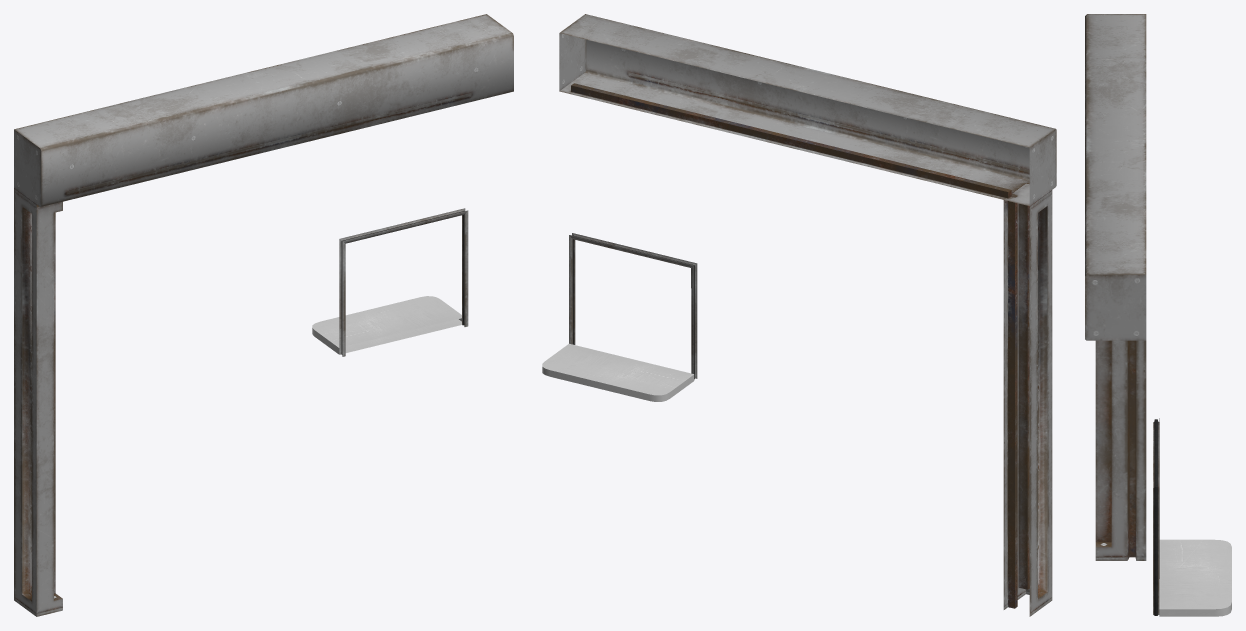
The model's file is SM_Celldoor_03_Celldoor_03_Frame.fbx.
The picture shows the model from 3 angles, left to right: view 1: azimuth 30°, elevation 25°; view 2: azimuth 150°, elevation 25°; view 3: azimuth 270°, elevation 25°; orthographic projection. The views are drawn at different scales.
Visible parts, largest first — view 1: SM_Celldoor_03_Celldoor_03_Frame; view 2: SM_Celldoor_03_Celldoor_03_Frame; view 3: SM_Celldoor_03_Celldoor_03_Frame.
Part boxes in pixels (box(x1,y1,x2,y2)): SM_Celldoor_03_Celldoor_03_Frame: box(14, 14, 513, 616); SM_Celldoor_03_Celldoor_03_Frame: box(542, 14, 1056, 616); SM_Celldoor_03_Celldoor_03_Frame: box(1085, 14, 1231, 616).
Bounding box in the file's own units: 286 × 68.08 × 272.
1 material, 1 textured.
